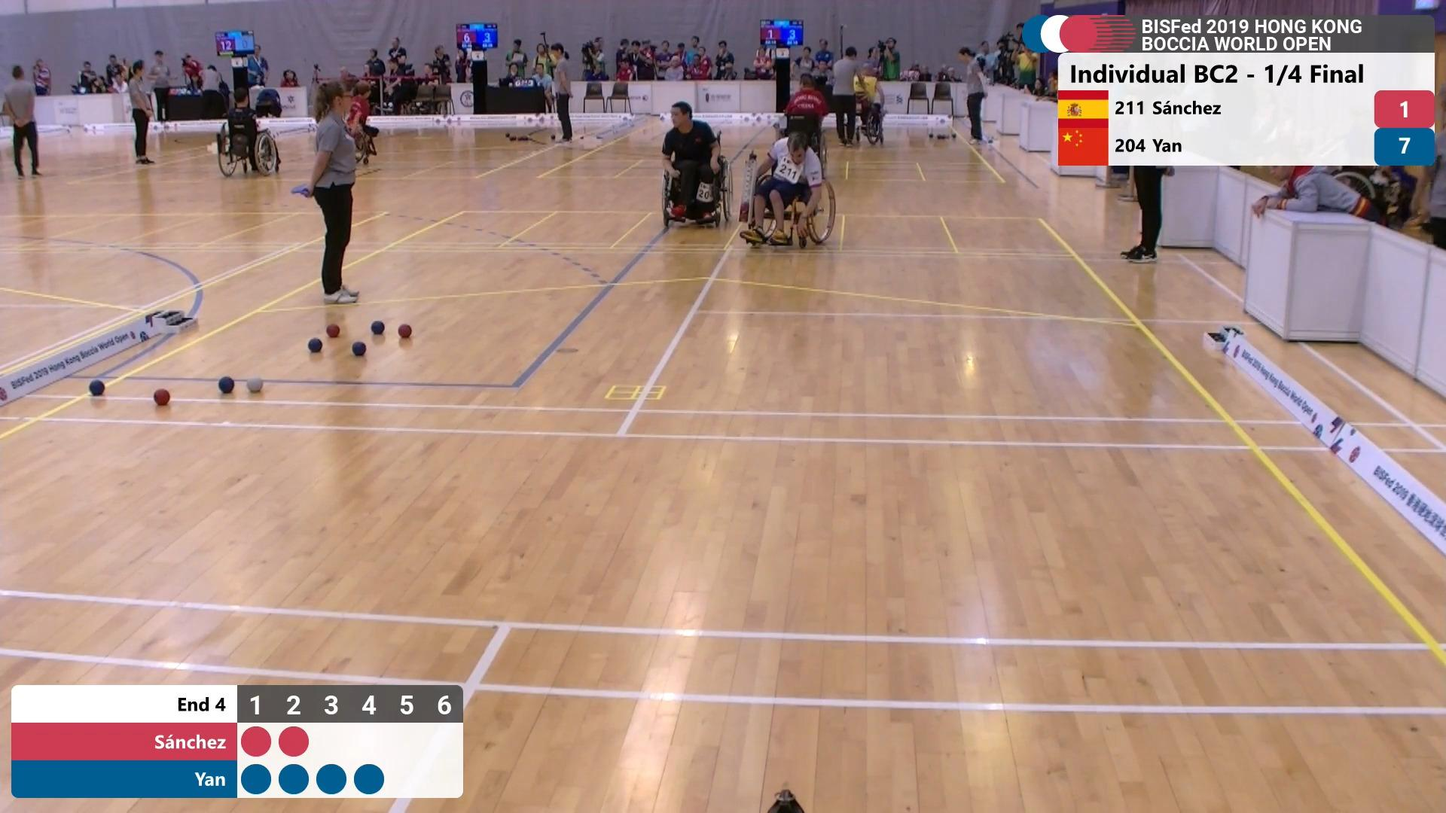blue_ball: (216, 374, 237, 395), (89, 377, 105, 398), (350, 339, 368, 357), (306, 337, 324, 354), (370, 319, 385, 337)
red_ball: (152, 387, 172, 407), (326, 322, 341, 340), (398, 323, 412, 339)
white_ball: (246, 373, 265, 395)
